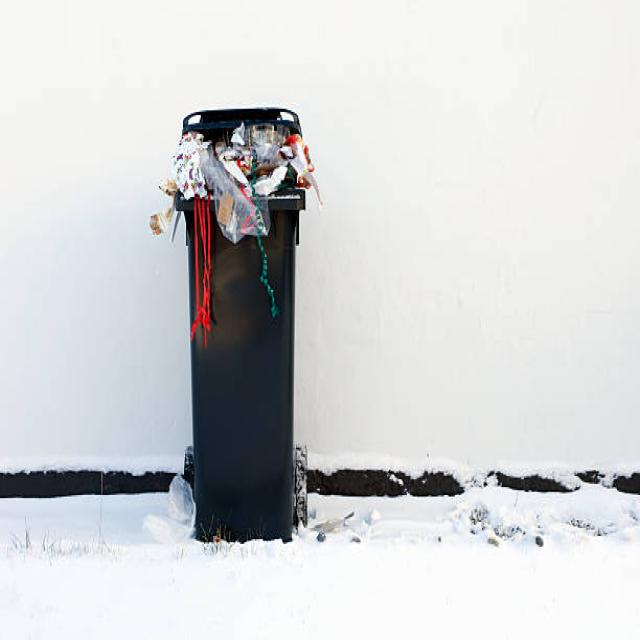trash: (164, 126, 310, 216)
